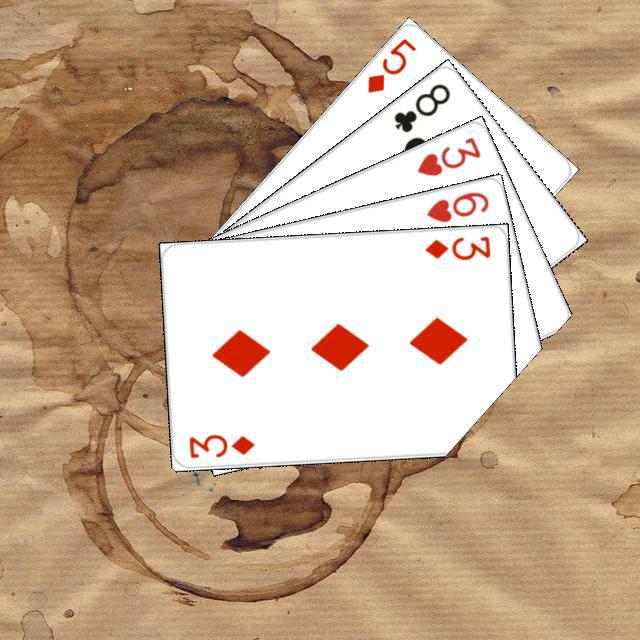3d: (420, 231, 493, 262), (184, 429, 256, 460)
3h: (412, 132, 483, 178)
5d: (362, 33, 418, 95)
6h: (421, 187, 491, 224)
8c: (388, 78, 452, 135)
